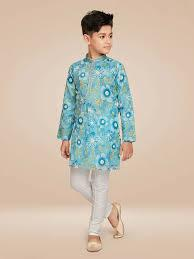Human: (61, 6, 143, 244)
